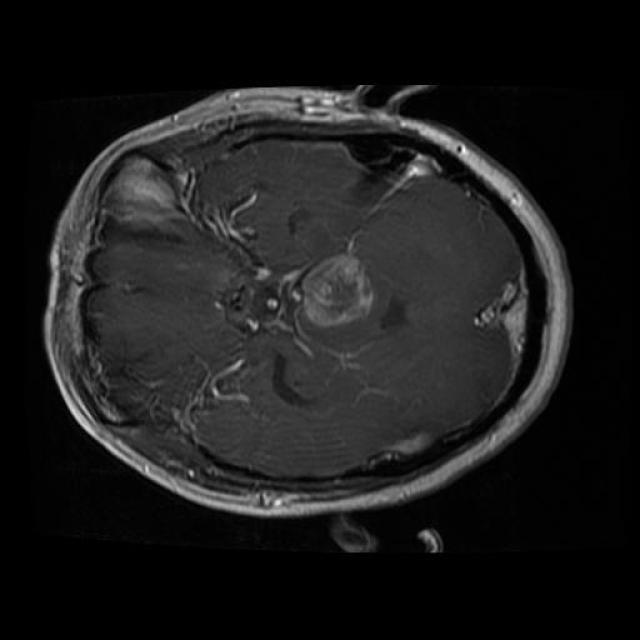Glioma: (302, 252, 374, 329)
